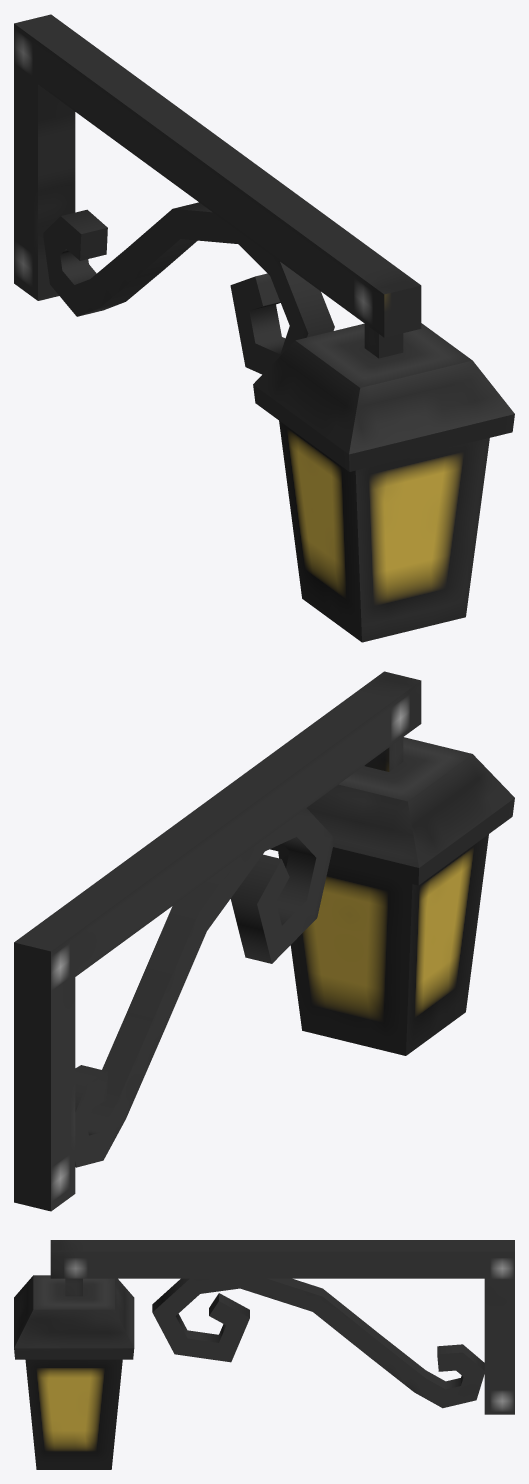
Rendered from Street_Light_001_I.FBX.
3 views of the same model, one above another, from view 1: azimuth 30°, elevation 25°; view 2: azimuth 150°, elevation 25°; view 3: azimuth 270°, elevation 25° (orthographic). The views are drawn at different scales.
Parts seen in each view (by area): view 1: Street_Light_001_I; view 2: Street_Light_001_I; view 3: Street_Light_001_I.
Part boxes in pixels (box(x1,y1,x2,y2)): Street_Light_001_I: box(14, 14, 514, 642); Street_Light_001_I: box(14, 671, 514, 1211); Street_Light_001_I: box(14, 1240, 514, 1469).
Bounding box in the file's own units: 18.72 × 77.98 × 35.74.
